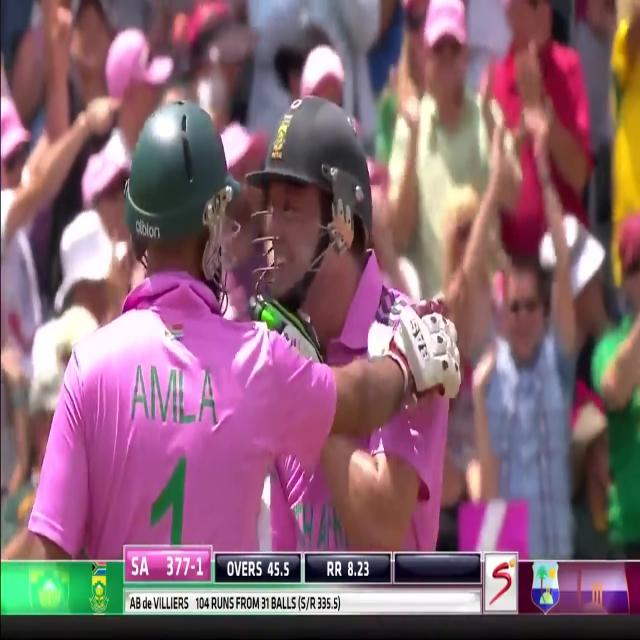Ball: (26, 102, 304, 556), (240, 96, 462, 554)
